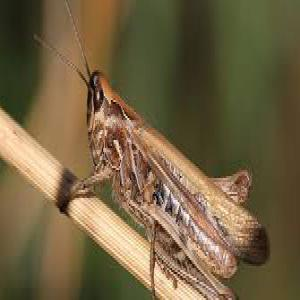locust: (75, 43, 270, 293)
